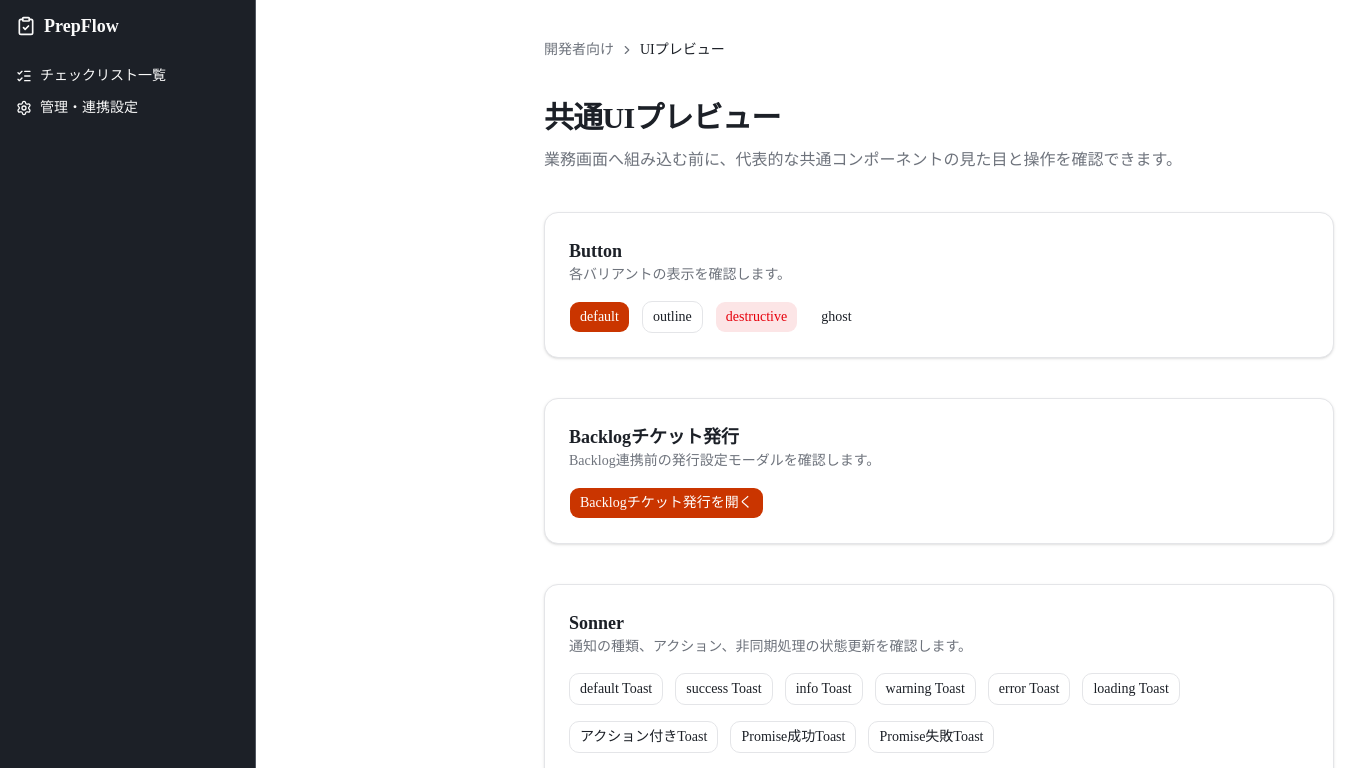
Scenario: UiPreviewPage › loading Toastを表示できる
Click the button "loading Toast". click: click(1131, 689)
box: x1=1082 y1=673 x2=1180 y2=705
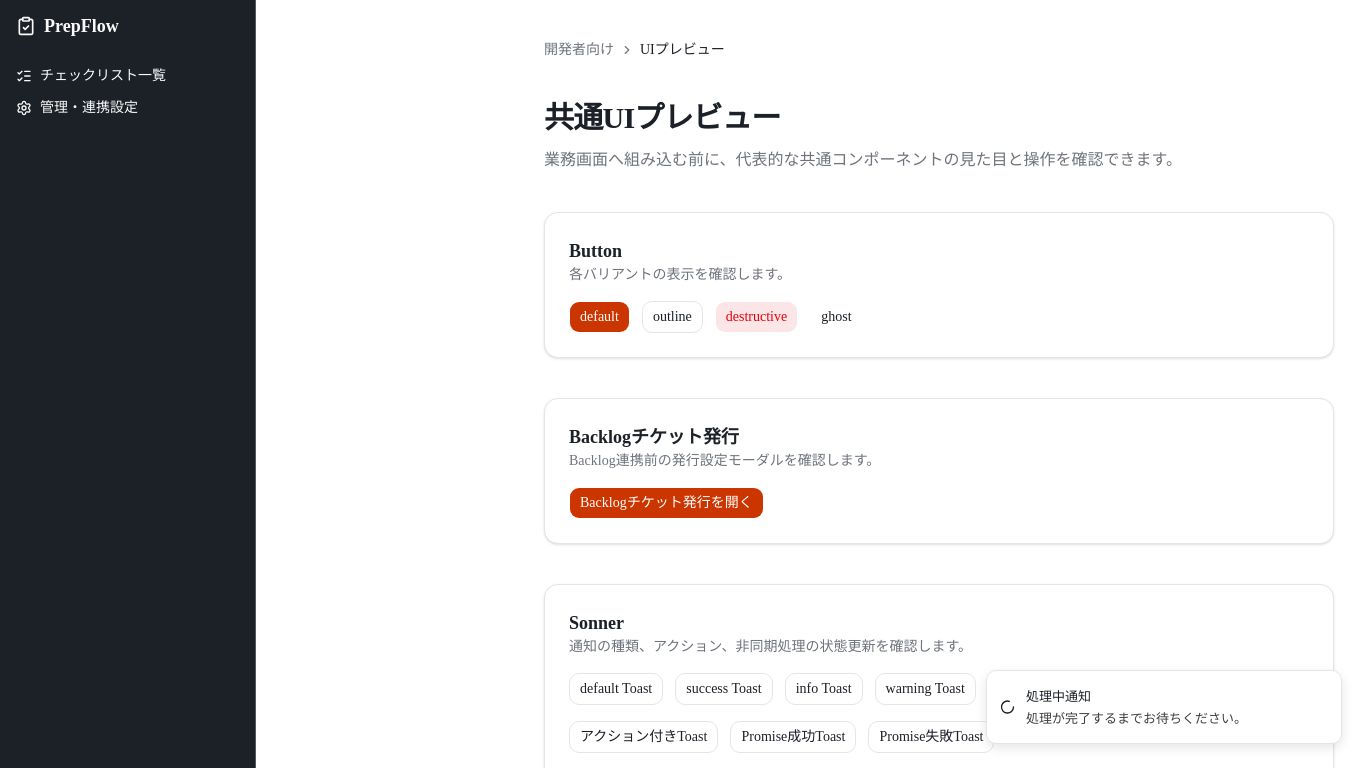
Expected: the text "処理中通知" is shown, x1=1026 y1=687 x2=1091 y2=705
